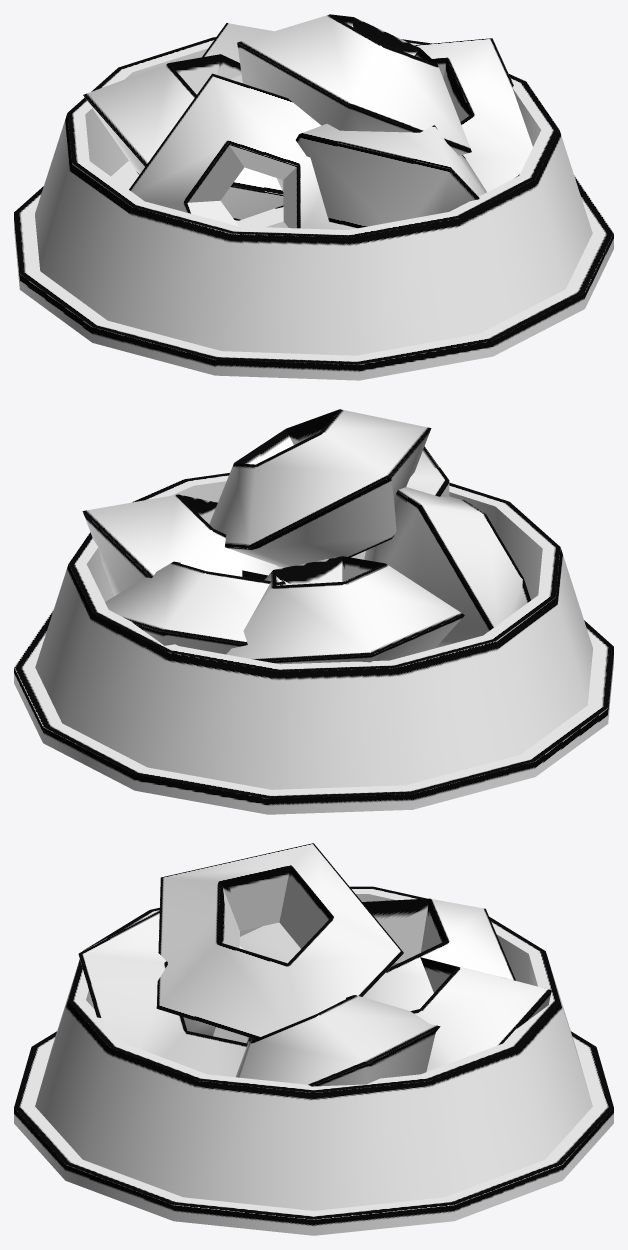
The model's file is catFoodBowl 1.FBX.
3 renders of one model, top to bottom at view 1: azimuth 30°, elevation 25°; view 2: azimuth 150°, elevation 25°; view 3: azimuth 270°, elevation 25°, orthographic.
Visible parts, largest first — view 1: Cylinder003, Torus006, Torus005, Torus004, Torus003, Torus002, Torus001; view 2: Cylinder003, Torus006, Torus003, Torus005, Torus002, Torus001, Torus004; view 3: Cylinder003, Torus006, Torus002, Torus004, Torus003, Torus001, Torus005.
Part boxes in pixels (left/top/right/bottom): Cylinder003: left=14, top=37, right=613, bottom=380; Torus006: left=237, top=14, right=471, bottom=155; Torus005: left=129, top=73, right=356, bottom=229; Torus004: left=276, top=124, right=486, bottom=228; Torus003: left=83, top=54, right=283, bottom=220; Torus002: left=415, top=38, right=532, bottom=191; Torus001: left=202, top=23, right=283, bottom=208; Cylinder003: left=14, top=473, right=613, bottom=814; Torus006: left=209, top=409, right=431, bottom=568; Torus003: left=226, top=556, right=464, bottom=664; Torus005: left=364, top=487, right=530, bottom=648; Torus002: left=82, top=494, right=279, bottom=595; Torus001: left=105, top=561, right=286, bottom=654; Torus004: left=351, top=446, right=449, bottom=559; Cylinder003: left=14, top=886, right=613, bottom=1235; Torus006: left=156, top=843, right=403, bottom=1039; Torus002: left=236, top=995, right=440, bottom=1086; Torus004: left=78, top=910, right=249, bottom=1077; Torus003: left=362, top=898, right=515, bottom=1010; Torus001: left=410, top=957, right=551, bottom=1071; Torus005: left=183, top=922, right=299, bottom=1036.
Bounding box in the file's own units: 32.19 × 15.22 × 32.43.
